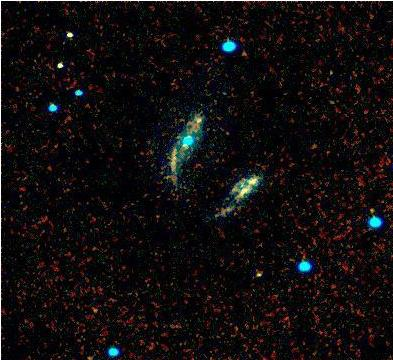star: (185, 106, 215, 136)
